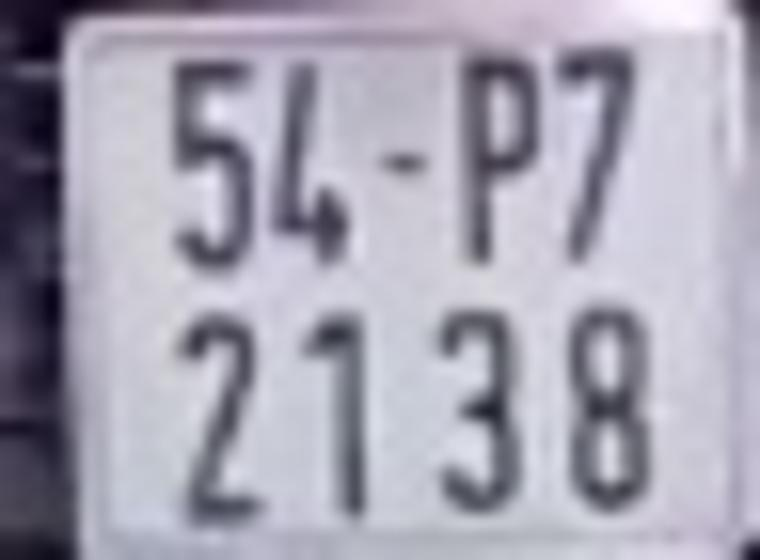-: (374, 154, 434, 178)
1: (300, 307, 372, 520)
2: (174, 308, 269, 526)
3: (430, 306, 526, 517)
4: (269, 59, 357, 267)
5: (168, 60, 255, 264)
7: (553, 47, 640, 272)
8: (560, 302, 656, 512)
P: (459, 50, 543, 267)
